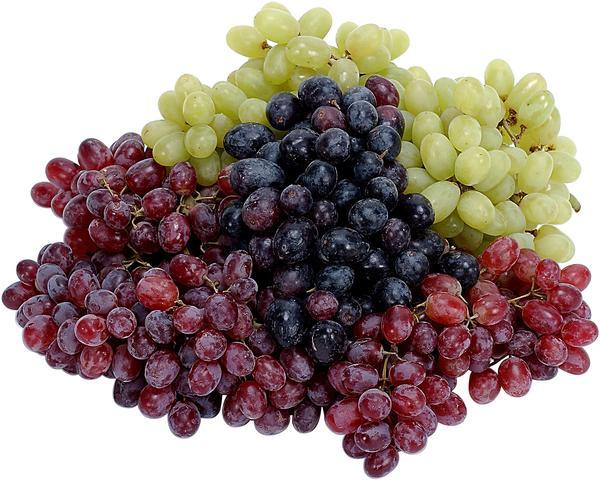grape: (14, 132, 258, 441), (335, 247, 600, 480), (223, 76, 425, 343), (404, 43, 595, 254)
